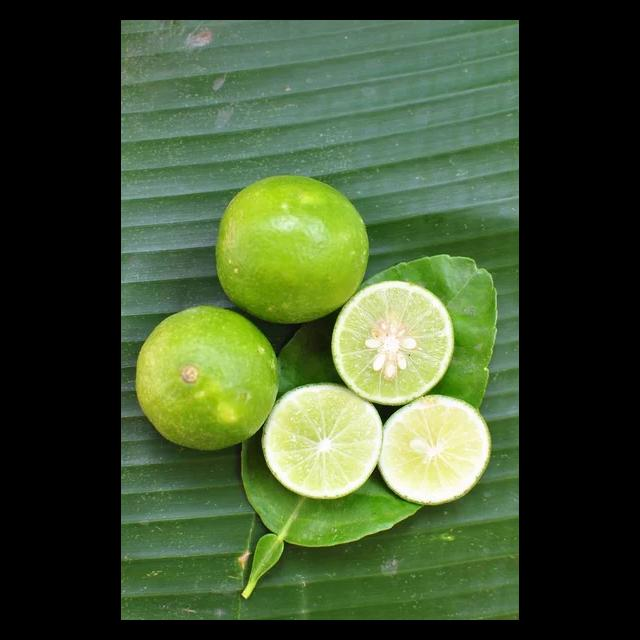lime: (206, 164, 375, 333), (131, 298, 284, 460)
